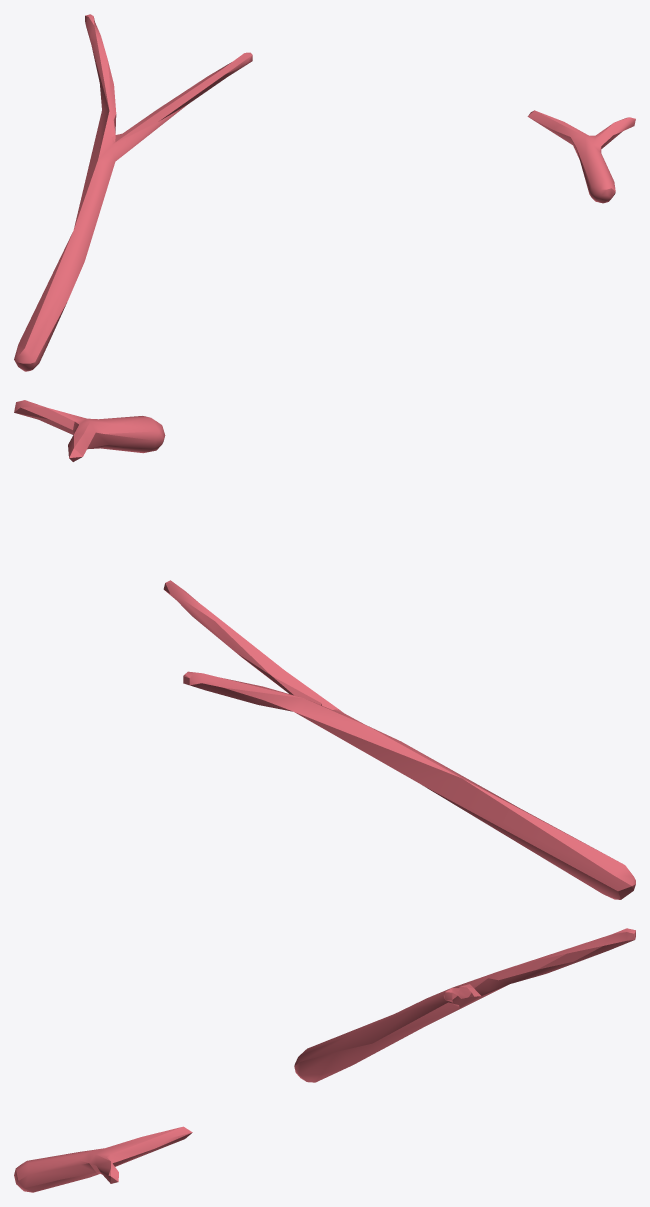
The model's file is fma50138_fj5053.glb.
3 views of the same model, one above another, from view 1: azimuth 30°, elevation 25°; view 2: azimuth 150°, elevation 25°; view 3: azimuth 270°, elevation 25° (orthographic). The views are drawn at different scales.
Parts seen in each view (by area): view 1: FMA50138_FJ5053; view 2: FMA50138_FJ5053; view 3: FMA50138_FJ5053.
Part boxes in pixels (<box>): FMA50138_FJ5053: <box>14,14,635,371</box>; FMA50138_FJ5053: <box>14,400,635,899</box>; FMA50138_FJ5053: <box>14,928,635,1192</box>.
Size of the model in its own units: 0.0107 by 0.00407 by 0.00856.
